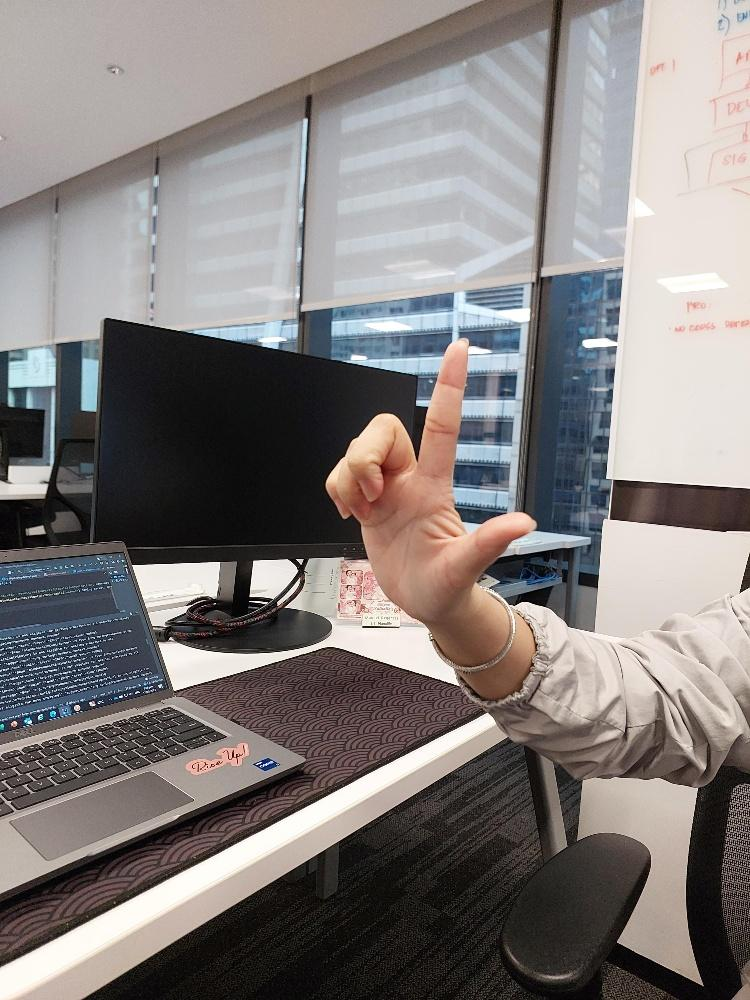l: (322, 333, 536, 619)
